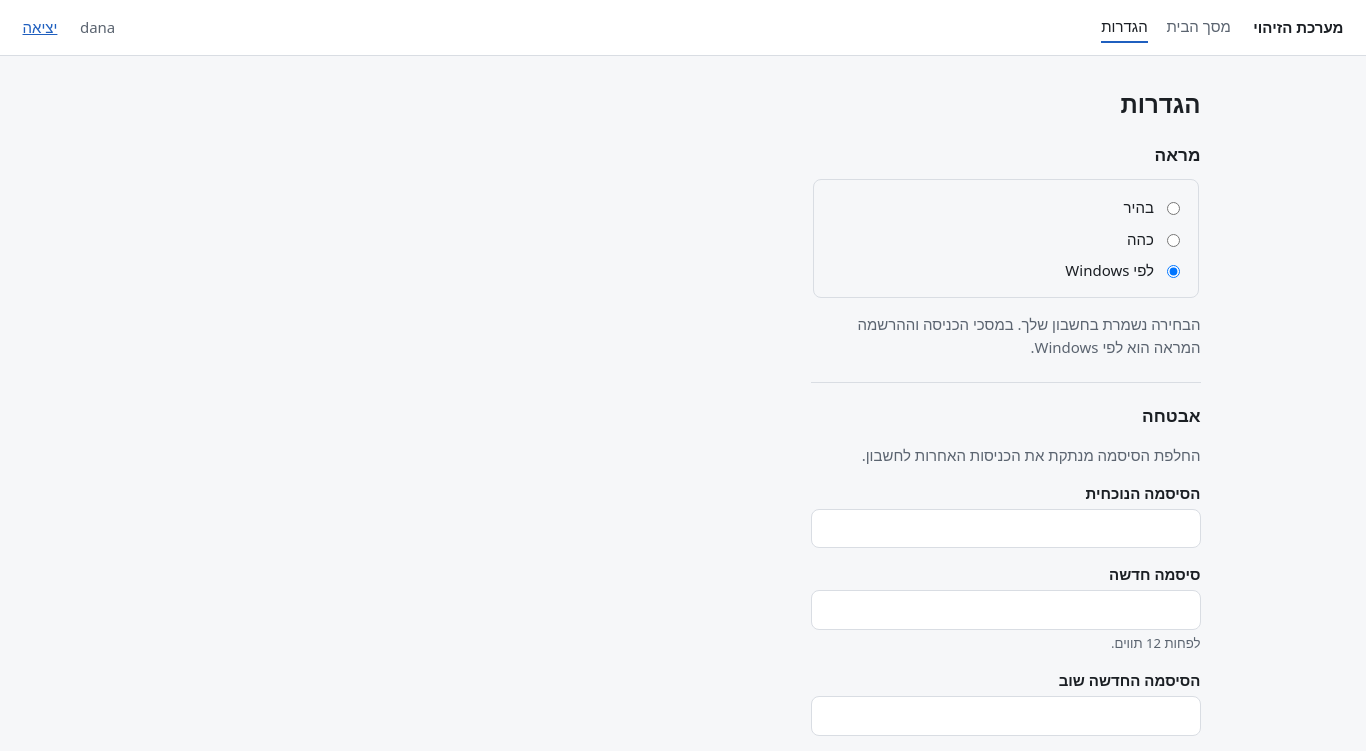
Scenario: the navigation › returns to sign-in with a notice when the server has ended the session
Click the radio button labelled "כהה": (1173, 240) [1166,234,1180,247]
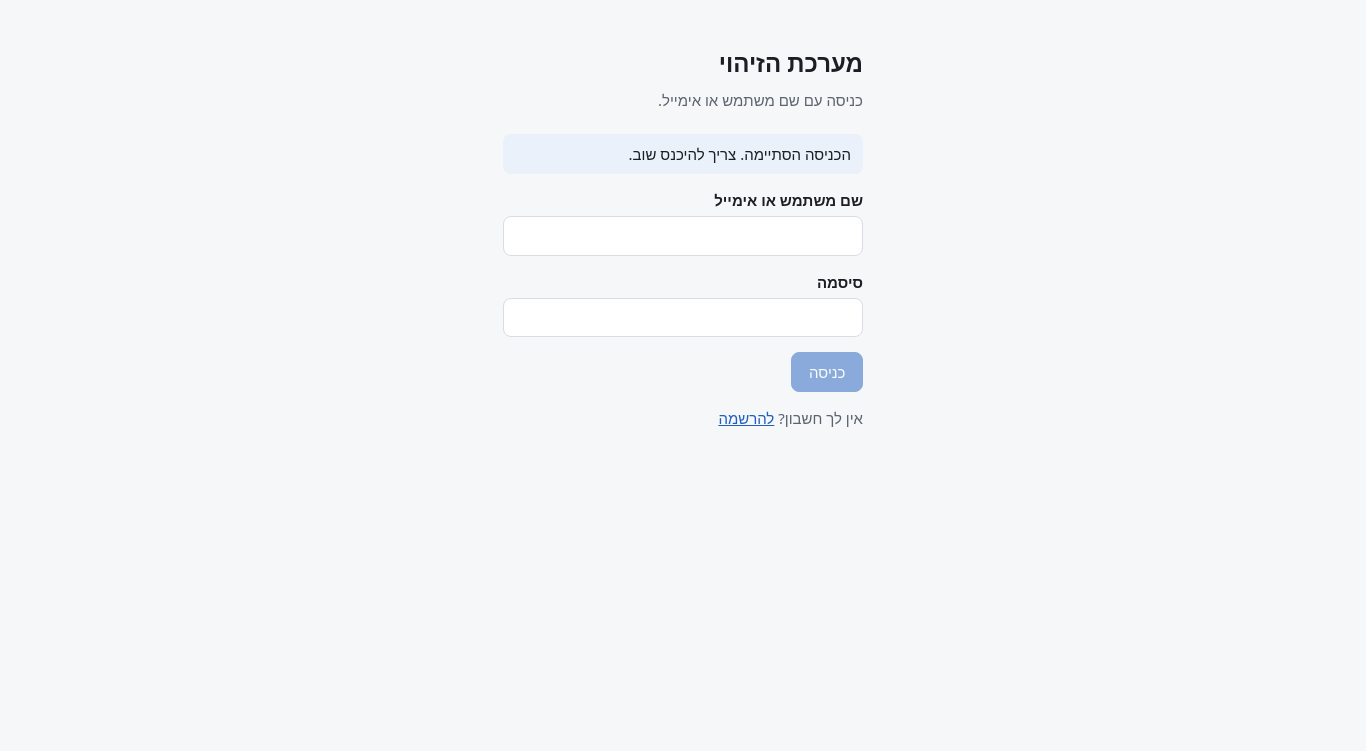
Expected: the text "הכניסה הסתיימה. צריך להיכנס שוב." is shown, [503,134,863,174]
Expected: the button "כניסה" is shown, [792,352,863,392]
